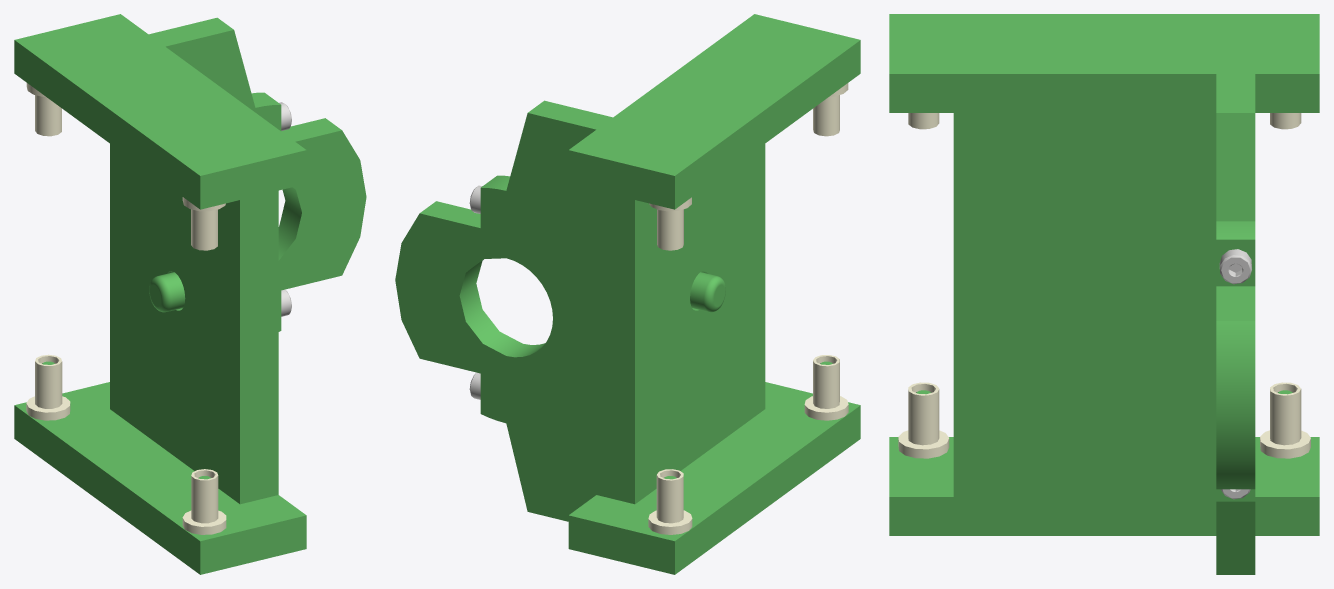
3 views of the same model, side by side, from view 1: azimuth 30°, elevation 25°; view 2: azimuth 150°, elevation 25°; view 3: azimuth 270°, elevation 25° (orthographic). The views are drawn at different scales.
Visible parts, largest first — view 1: Link3; view 2: Link3; view 3: Link3.
Boxes of the visible parts, box(x1,y1,x2,y2) form: Link3: box(14, 14, 366, 574); Link3: box(395, 14, 860, 574); Link3: box(889, 14, 1319, 574).
Bounding box in the file's own units: 0.0477 × 0.05 × 0.0592.
